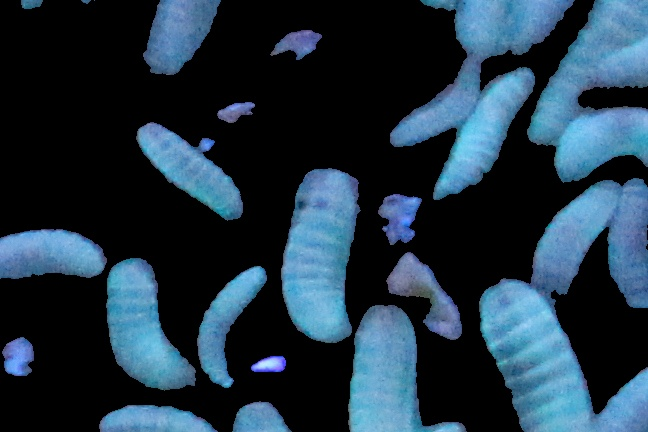larvae: (476, 281, 595, 432), (528, 1, 648, 144), (280, 170, 359, 344), (431, 66, 533, 198), (105, 259, 197, 389), (136, 121, 243, 221), (532, 179, 619, 294), (197, 266, 269, 389), (349, 304, 418, 432), (391, 60, 480, 149), (552, 105, 648, 182), (1, 224, 107, 286), (142, 1, 219, 76), (608, 180, 648, 307), (97, 402, 221, 432), (598, 359, 648, 430), (588, 38, 648, 96)
